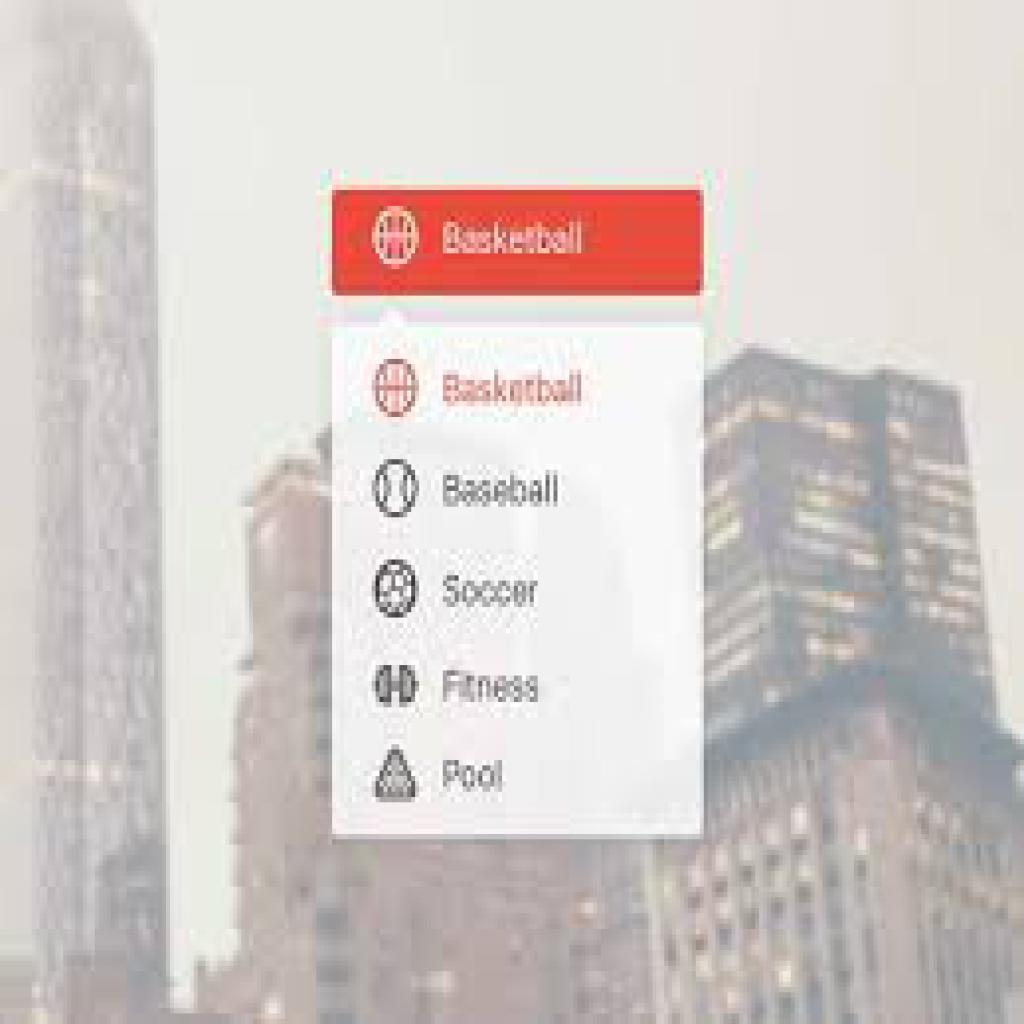icon: (358, 195, 432, 272), (362, 740, 433, 819), (359, 651, 433, 721), (365, 352, 431, 421), (372, 457, 429, 527), (371, 551, 422, 622)
